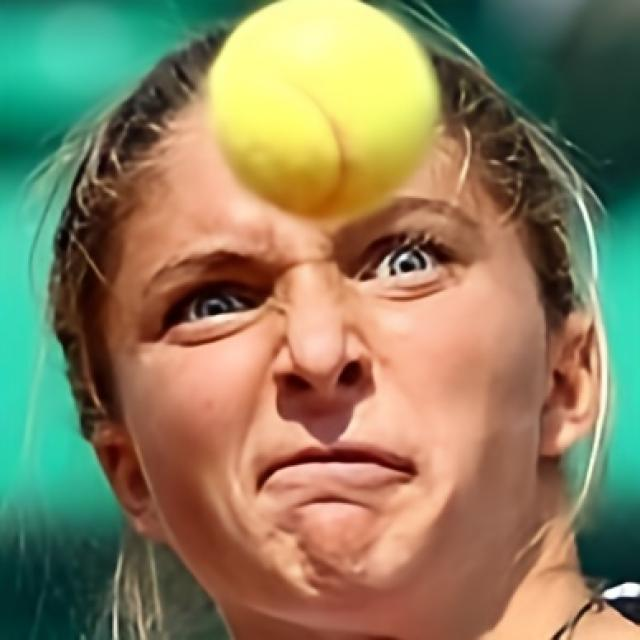disgust: (104, 55, 543, 630)
